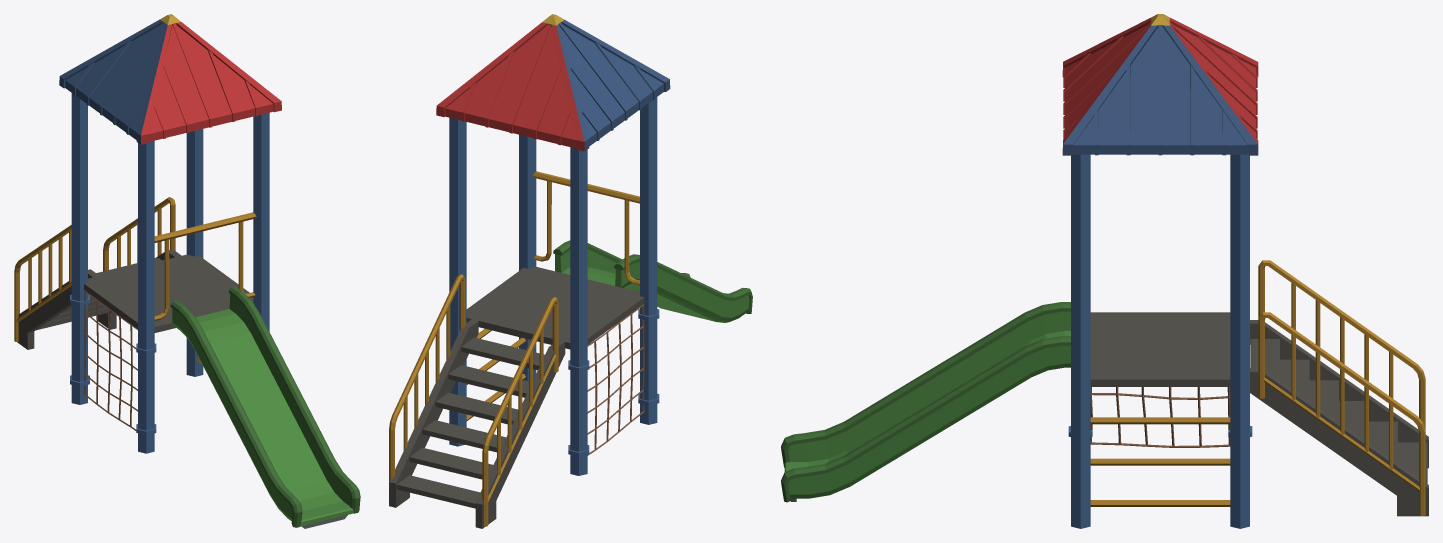
File: SM_Props_City_PlayGround_Equipment_01.fbx
3 renders of one model, left to right at view 1: azimuth 30°, elevation 25°; view 2: azimuth 150°, elevation 25°; view 3: azimuth 270°, elevation 25°, orthographic. The views are drawn at different scales.
Parts seen in each view (by area): view 1: SM_Props_City_PlayGround_Equipment_01; view 2: SM_Props_City_PlayGround_Equipment_01; view 3: SM_Props_City_PlayGround_Equipment_01.
Boxes of the visible parts, left/top/right/bottom form: SM_Props_City_PlayGround_Equipment_01: left=14, top=14, right=360, bottom=528; SM_Props_City_PlayGround_Equipment_01: left=389, top=14, right=752, bottom=528; SM_Props_City_PlayGround_Equipment_01: left=781, top=14, right=1428, bottom=528.
Size of the model in its own units: 172 by 460 by 569.
